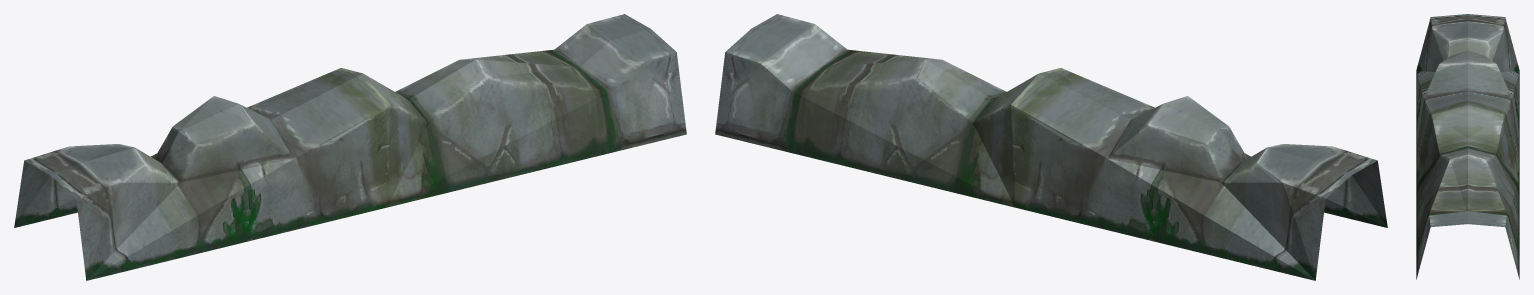
File: stemple_cap_straight_01.fbx
3 renders of one model, left to right at view 1: azimuth 30°, elevation 25°; view 2: azimuth 150°, elevation 25°; view 3: azimuth 270°, elevation 25°, orthographic. The views are drawn at different scales.
Parts seen in each view (by area): view 1: obj0.066; view 2: obj0.066; view 3: obj0.066.
Part boxes in pixels (x1,y1,x2,y2): obj0.066: [14, 14, 686, 280]; obj0.066: [715, 14, 1387, 280]; obj0.066: [1416, 14, 1519, 279].
Bounding box in the file's own units: 4 × 0.6672 × 0.8328.
